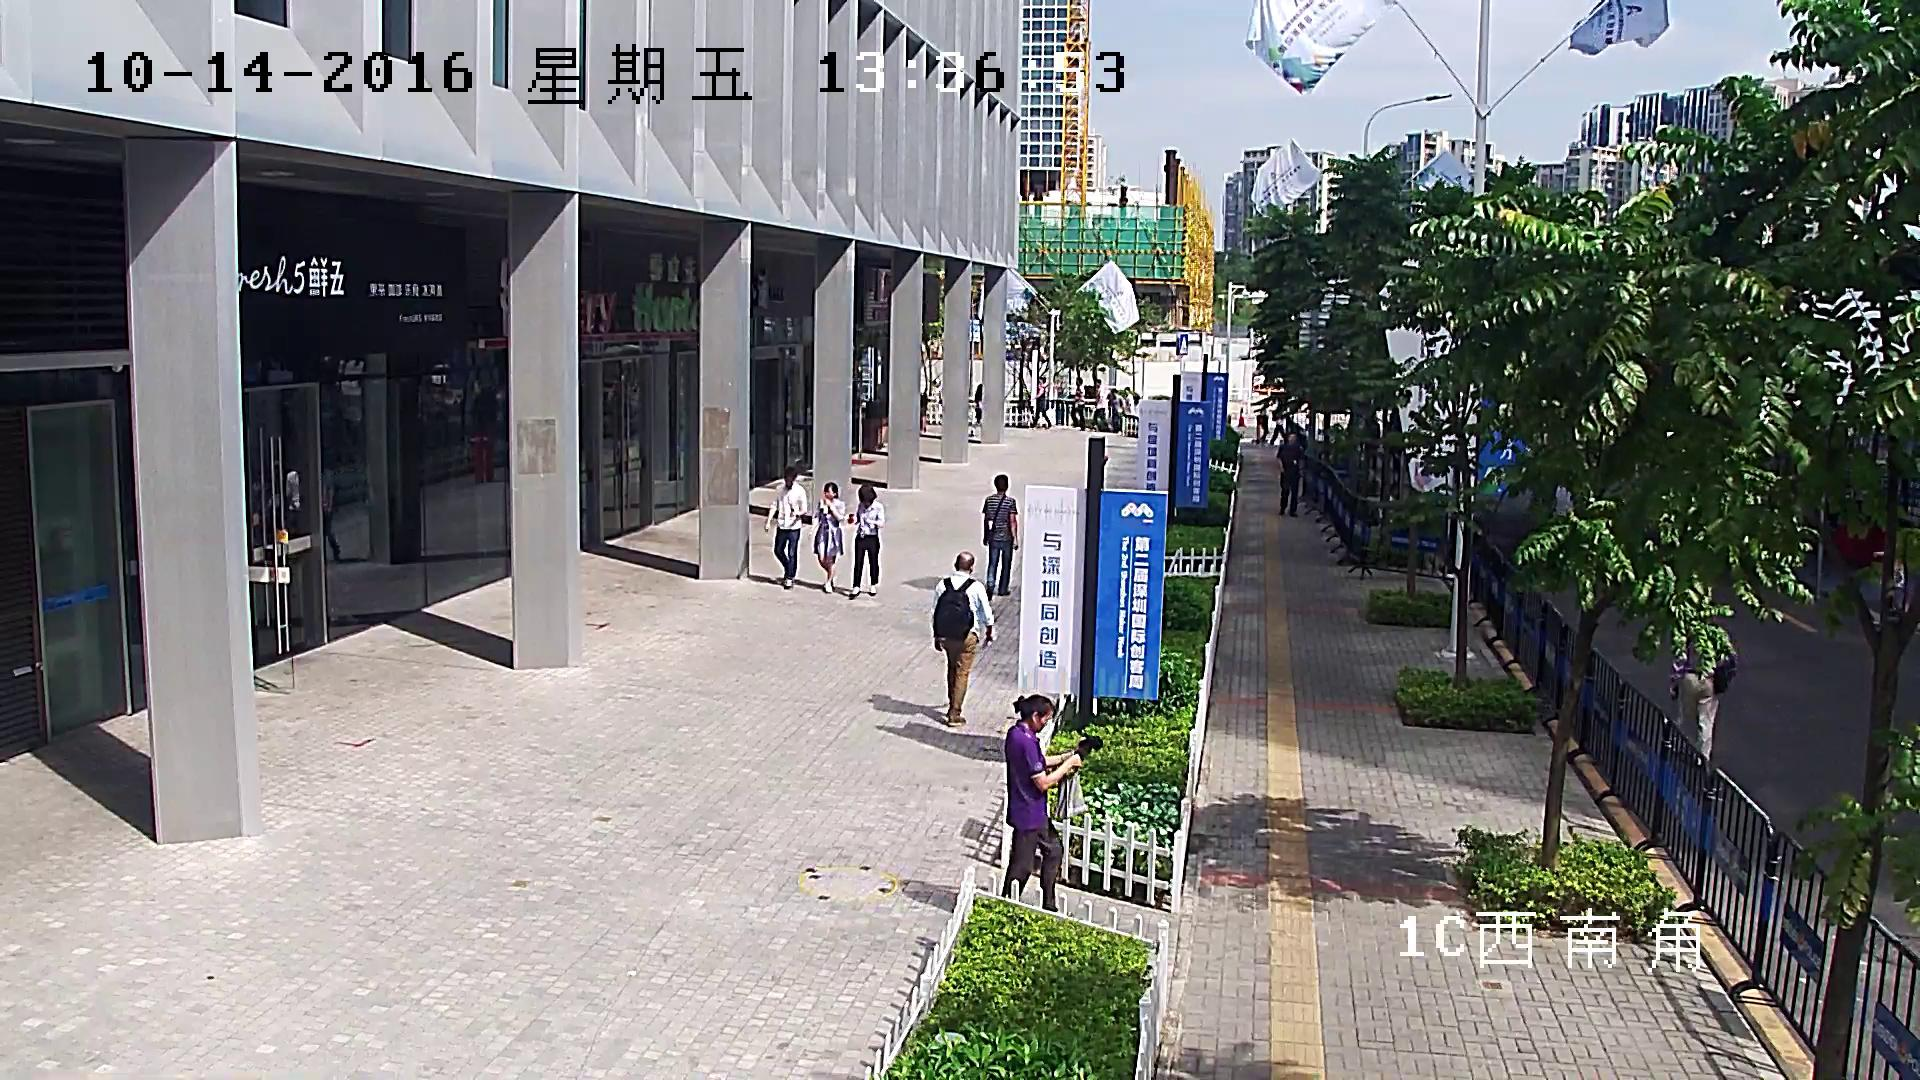person: (1003, 694, 1101, 913), (1002, 694, 1083, 913), (933, 552, 993, 725), (1669, 624, 1734, 766), (763, 466, 805, 587), (982, 475, 1018, 595), (849, 484, 885, 597), (813, 482, 844, 592), (1277, 433, 1300, 516), (1091, 378, 1108, 432), (1033, 377, 1051, 427), (1107, 389, 1126, 432), (1071, 376, 1085, 430), (1269, 410, 1283, 445), (1123, 386, 1135, 416)
